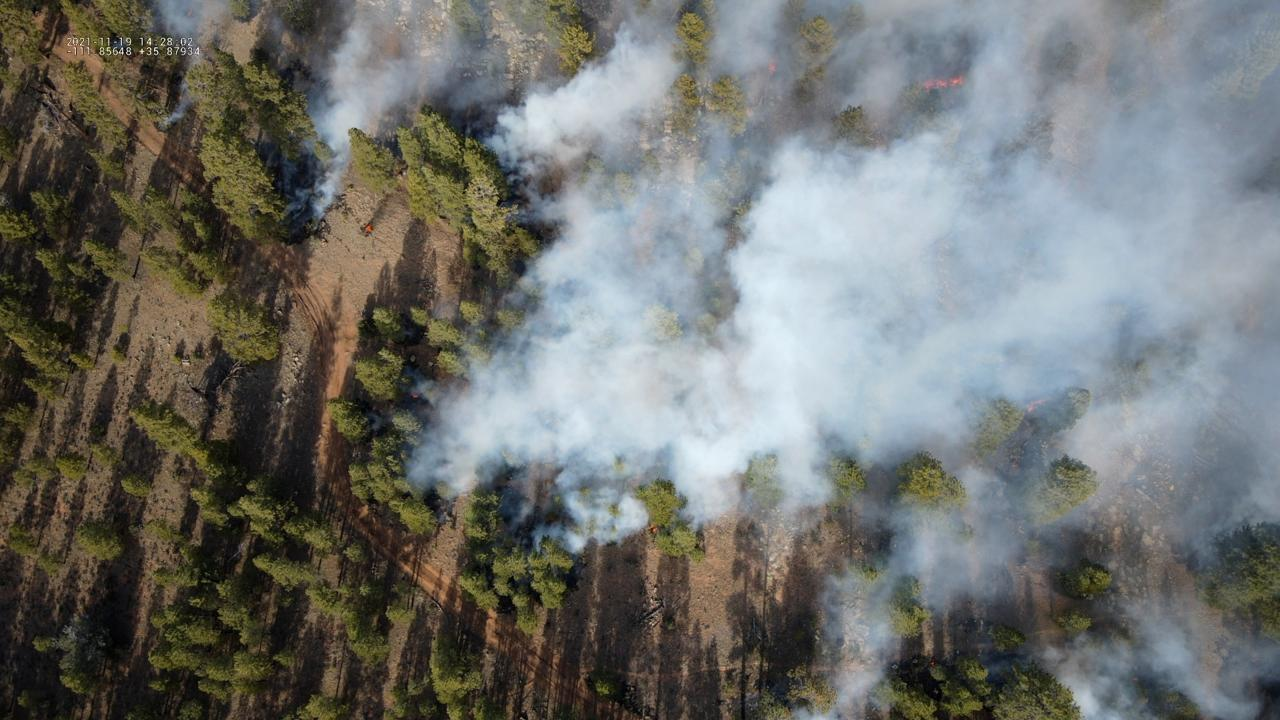fire: (923, 75, 971, 91), (1022, 398, 1049, 415), (765, 62, 778, 78), (364, 224, 374, 234), (185, 8, 194, 17), (651, 527, 658, 534), (412, 393, 418, 399)
smoke: (277, 0, 1280, 720), (142, 0, 235, 128)
